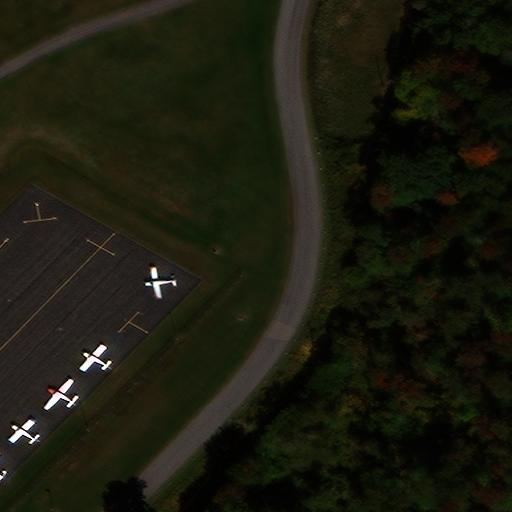Small Civil Transport: (144, 266, 177, 298), (42, 378, 76, 407), (78, 343, 111, 368), (7, 418, 40, 442)
